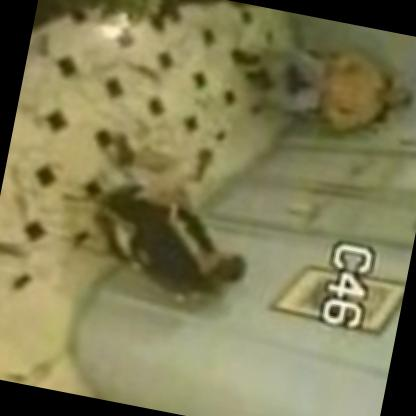Human Body: (64, 127, 272, 318), (225, 22, 415, 157)
